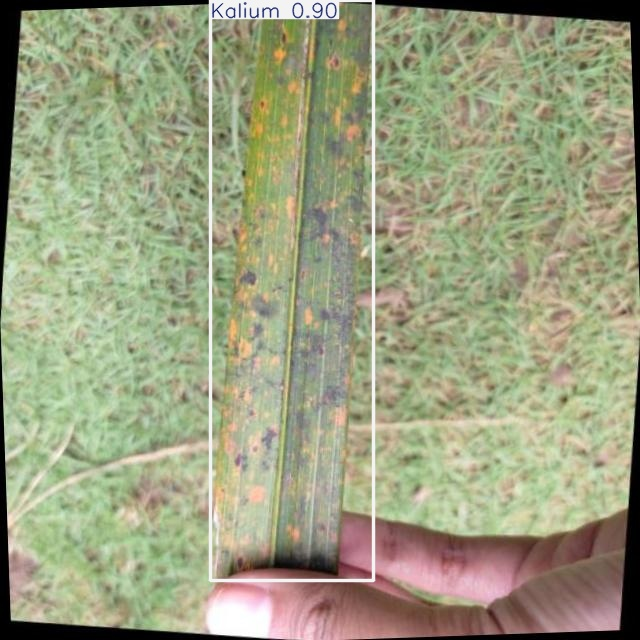Kalium: (211, 1, 373, 581)
